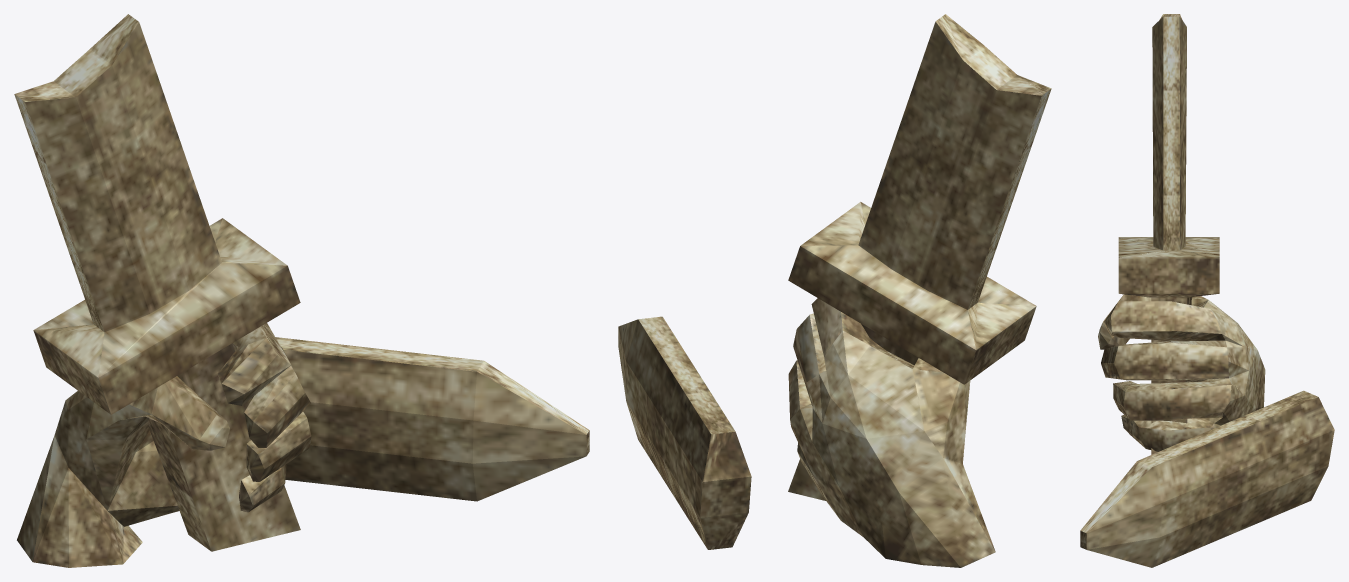
The model's file is ob-bigstatue02.fbx.
The picture shows the model from 3 angles, left to right: view 1: azimuth 30°, elevation 25°; view 2: azimuth 150°, elevation 25°; view 3: azimuth 270°, elevation 25°; orthographic projection. The views are drawn at different scales.
Visible parts, largest first — view 1: Object01; view 2: Object01; view 3: Object01.
Boxes of the visible parts, x1=… form: Object01: x1=14, y1=14, x2=589, y2=567; Object01: x1=618, y1=14, x2=1051, y2=567; Object01: x1=1080, y1=14, x2=1334, y2=567.
Bounding box in the file's own units: 5.81 × 5.88 × 3.2.
